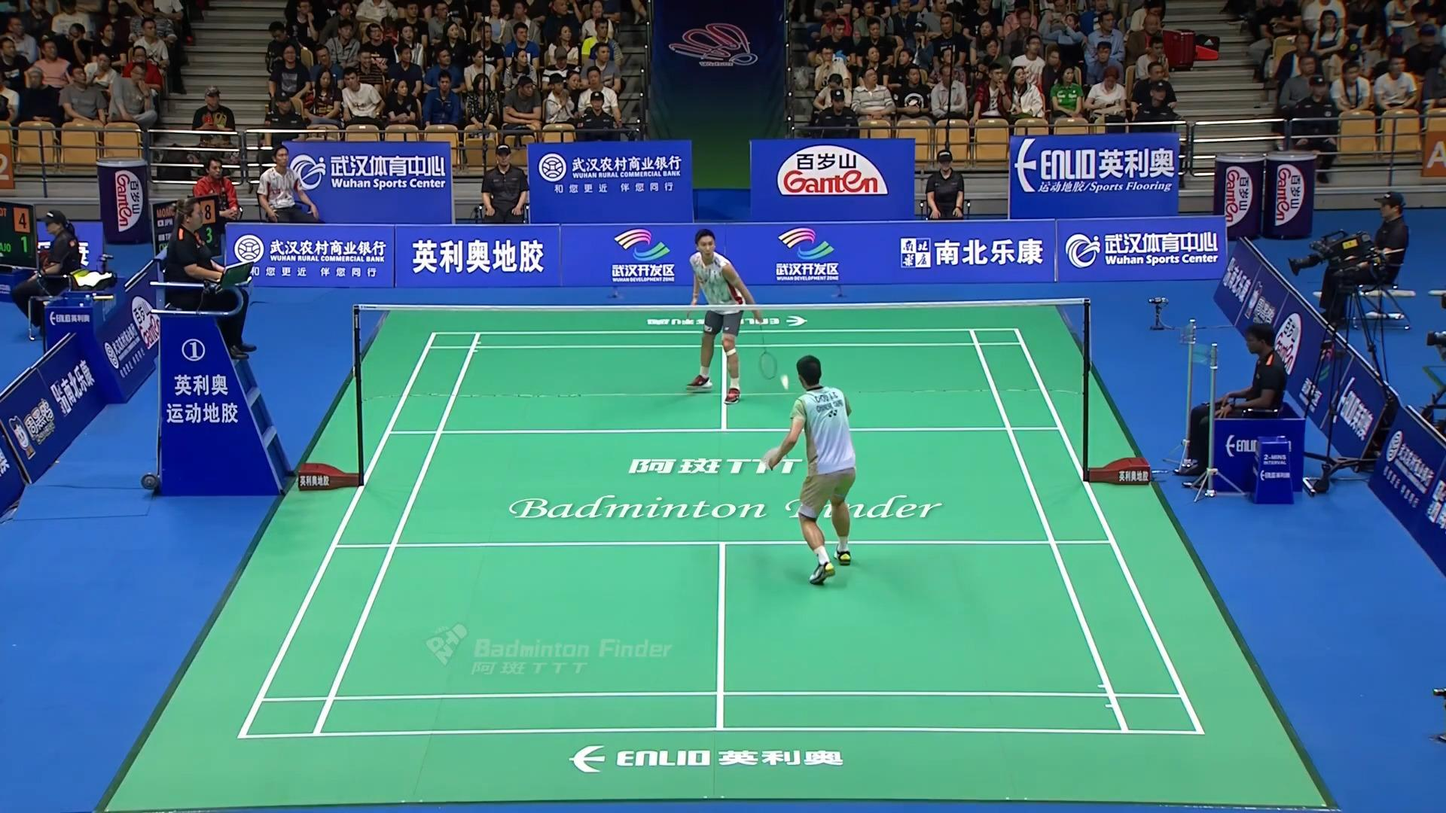shuttlecock: (779, 374, 791, 391)
